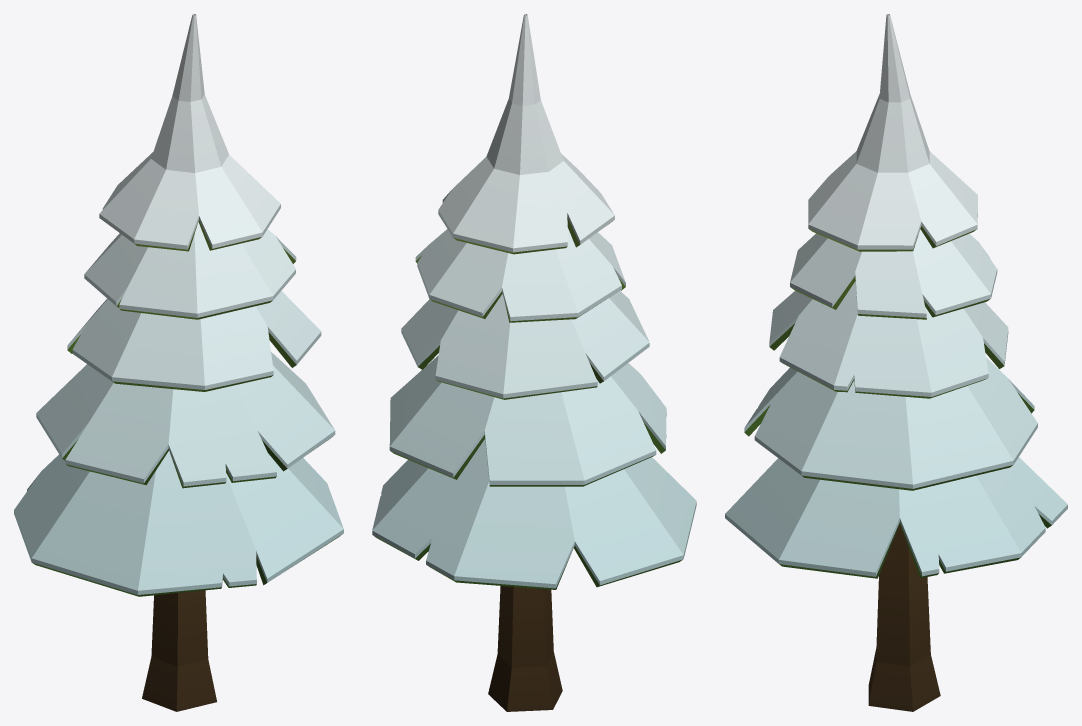
Rendered from Winter_Tree_04.glb.
3 views of the same model, side by side, from view 1: azimuth 30°, elevation 25°; view 2: azimuth 150°, elevation 25°; view 3: azimuth 270°, elevation 25° (orthographic).
Visible parts, largest first — view 1: Winter_Tree_04_LOD0; view 2: Winter_Tree_04_LOD0; view 3: Winter_Tree_04_LOD0.
Boxes of the visible parts, x1,y1,x2,y2 form: Winter_Tree_04_LOD0: (14,14,343,711); Winter_Tree_04_LOD0: (372,14,696,711); Winter_Tree_04_LOD0: (725,14,1067,711).
Size of what is drawn, in the model's own units: 1.58 by 3.58 by 1.63.
Materials: 1 (1 with a texture image).
